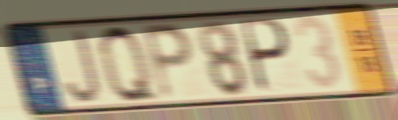3: (293, 12, 347, 94)
8: (195, 17, 251, 100)
J: (62, 27, 103, 106)
P: (139, 21, 196, 103), (241, 17, 294, 96)
Q: (95, 21, 164, 107)
